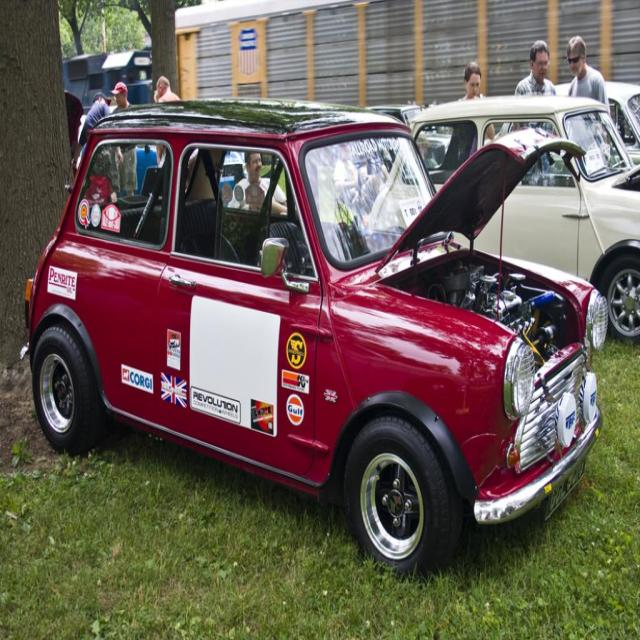Passenger Car: (25, 102, 609, 579)
